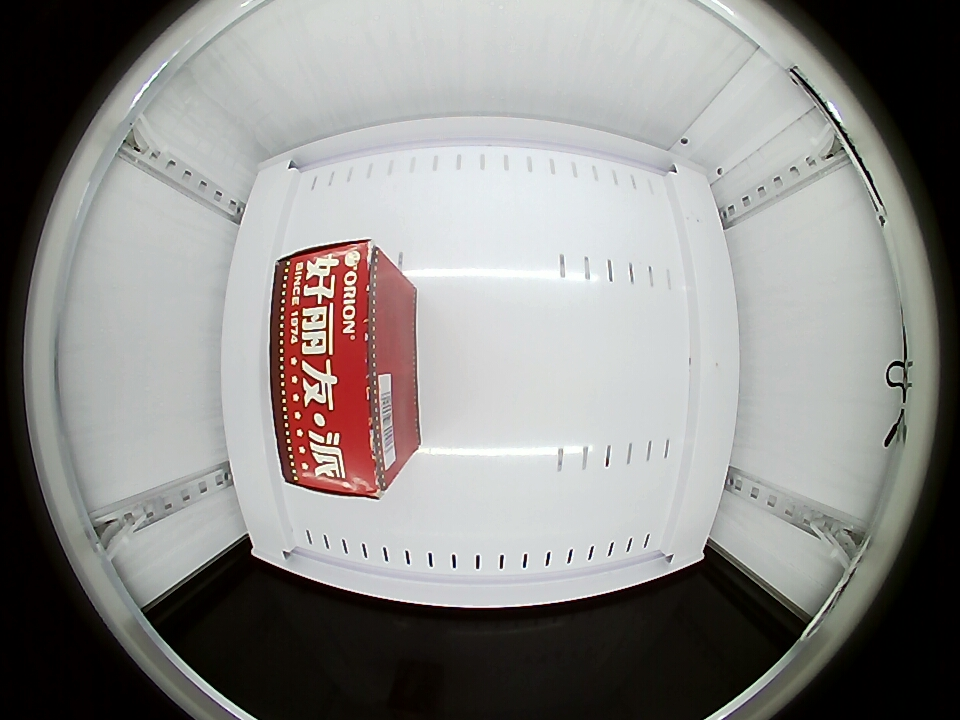haoliyou: (268, 240, 411, 497)
